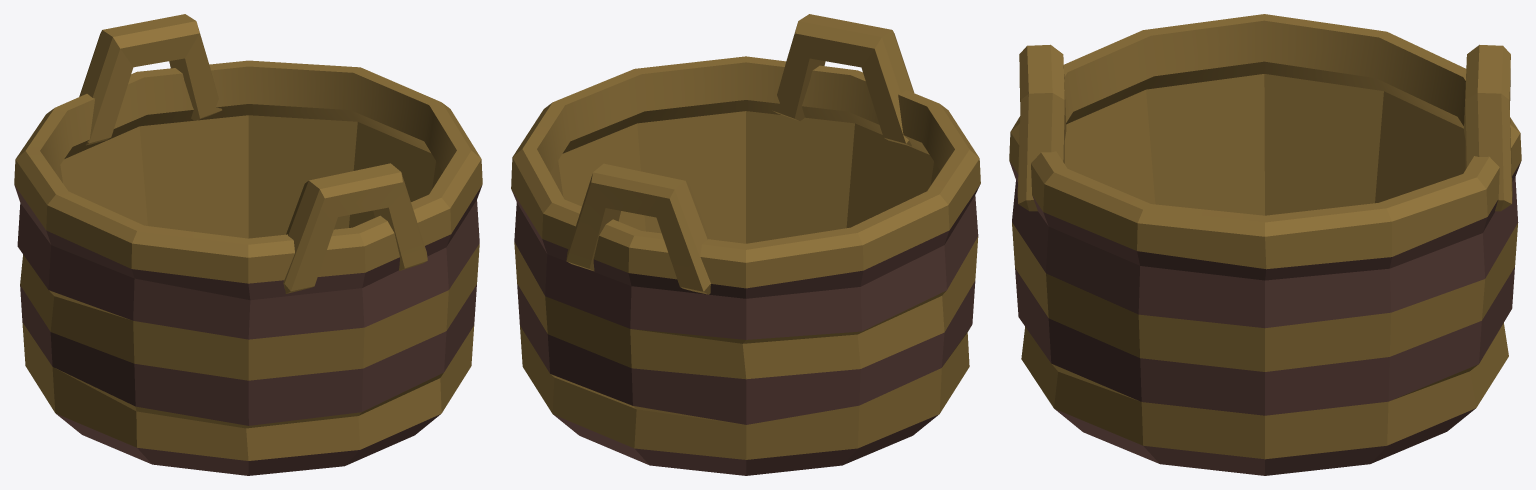
File: SM_Prop_Basket_04.fbx
The picture shows the model from 3 angles, left to right: view 1: azimuth 30°, elevation 25°; view 2: azimuth 150°, elevation 25°; view 3: azimuth 270°, elevation 25°; orthographic projection. The views are drawn at different scales.
Visible parts, largest first — view 1: SM_Prop_Basket_04; view 2: SM_Prop_Basket_04; view 3: SM_Prop_Basket_04.
Boxes of the visible parts, left/top/right/bottom form: SM_Prop_Basket_04: left=14, top=14, right=482, bottom=475; SM_Prop_Basket_04: left=511, top=14, right=980, bottom=475; SM_Prop_Basket_04: left=1009, top=14, right=1521, bottom=475.
Bounding box in the file's own units: 0.5003 × 0.3492 × 0.5003.
